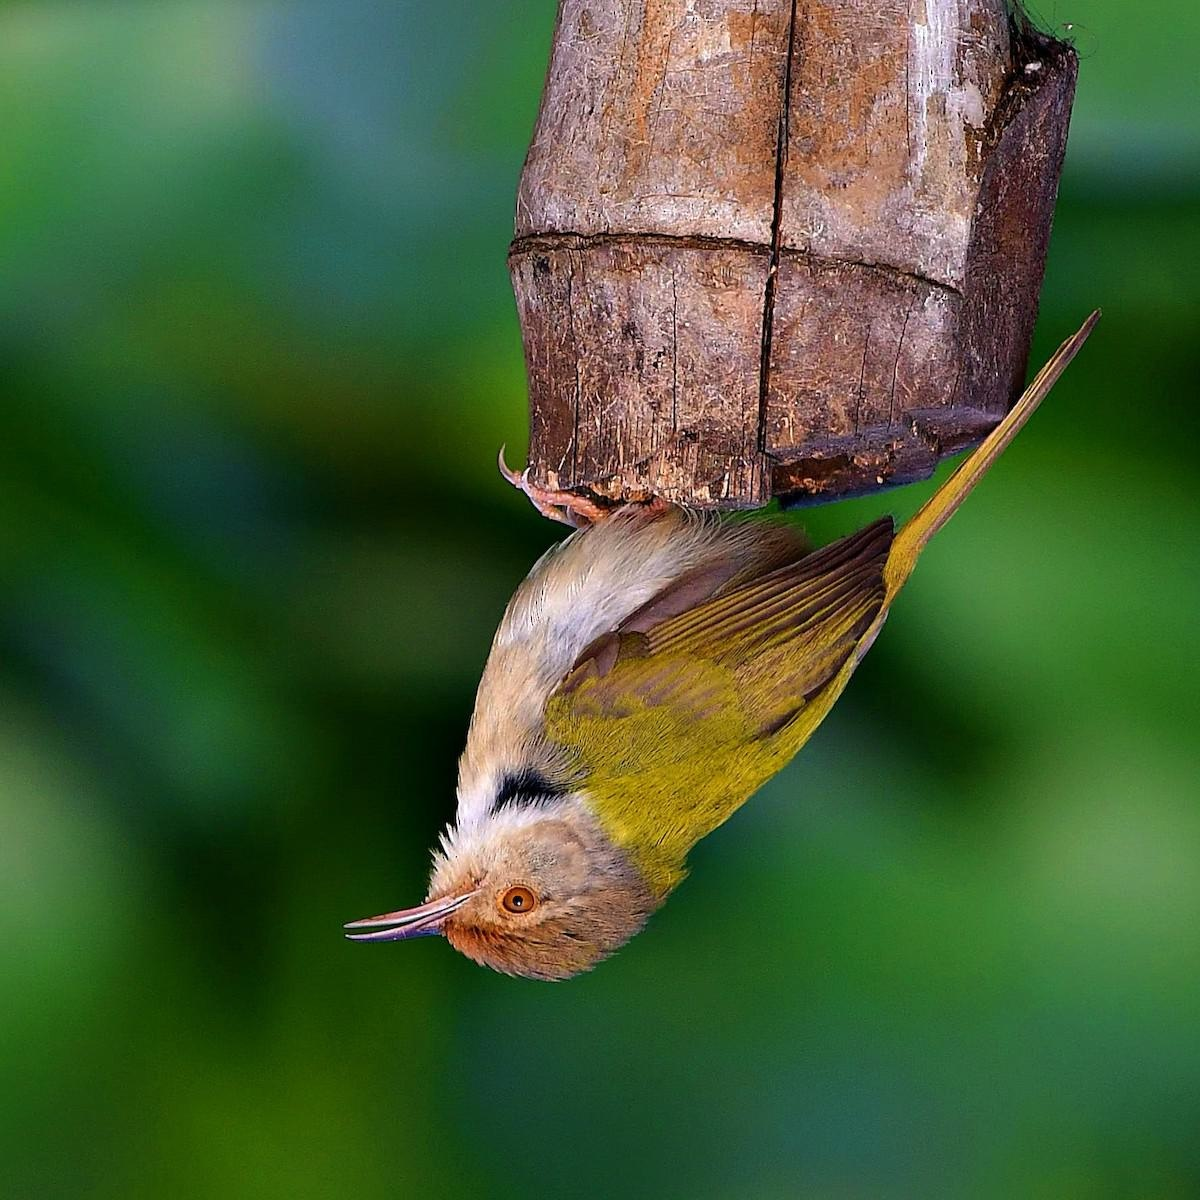tailorbird: (284, 289, 1114, 1009)
